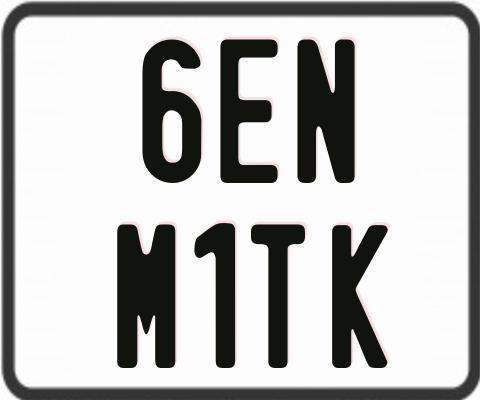1: (192, 223, 236, 370)
6: (141, 39, 204, 186)
E: (220, 38, 284, 183)
K: (329, 222, 388, 366)
M: (115, 221, 177, 367)
N: (297, 36, 361, 180)
T: (248, 221, 304, 365)
